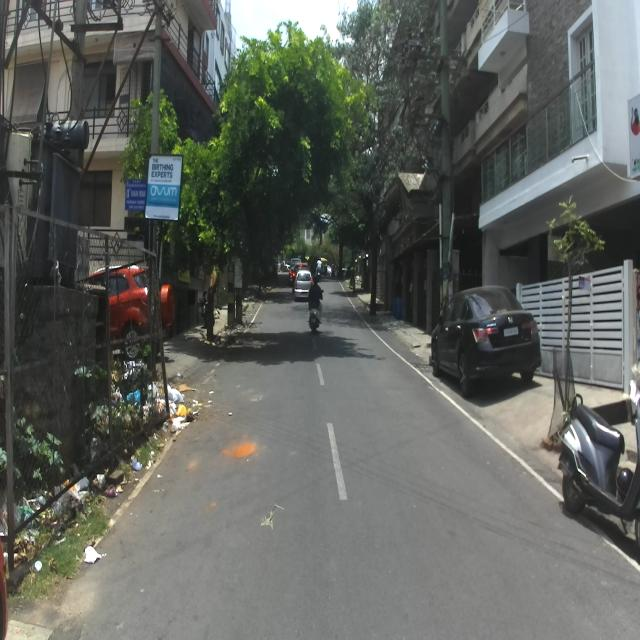car ahead at: (429, 287, 542, 398)
electric pole ahead at: (143, 0, 177, 425)
motorcycle ahead at: (561, 394, 640, 528)
